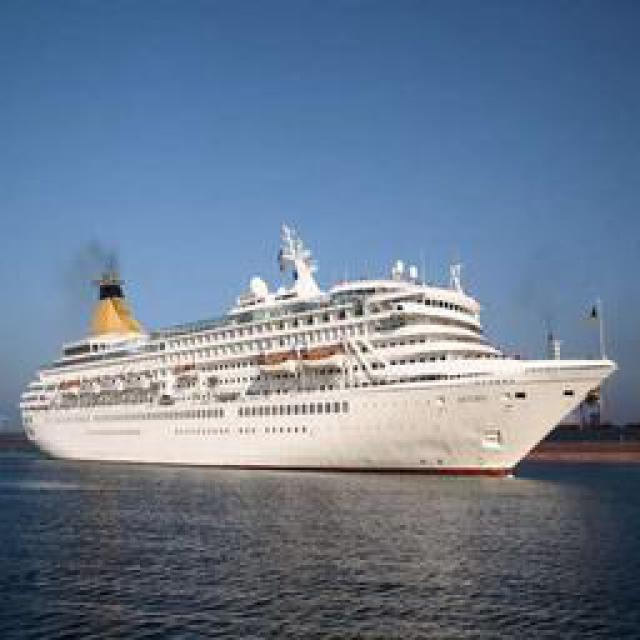Ship: (22, 239, 602, 479)
